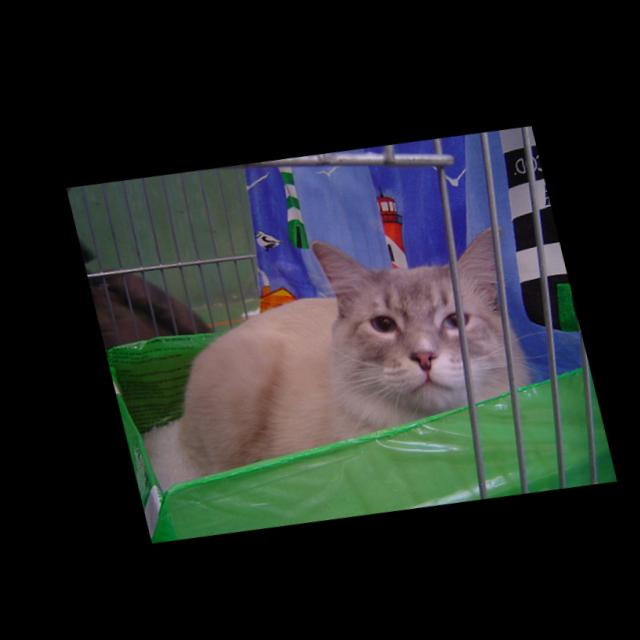animals: (309, 207, 527, 383)
